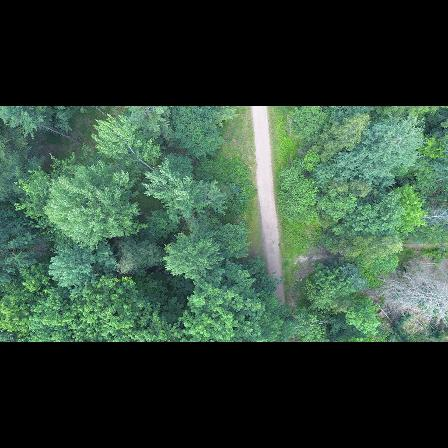Dead: (378, 276, 448, 318), (394, 254, 448, 286), (419, 207, 448, 227)
